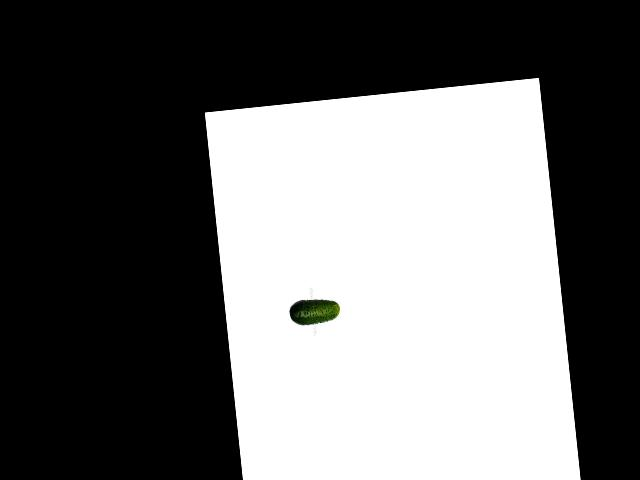cucumber: (288, 296, 341, 327)
